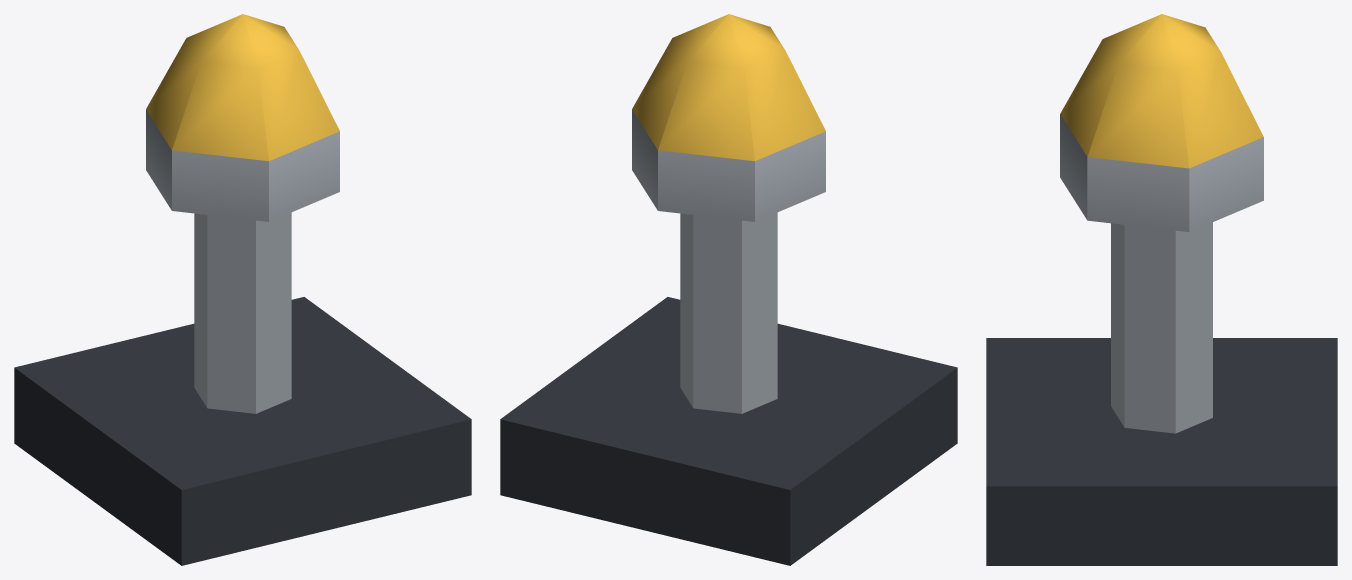
File: LuzPista.fbx
3 views of the same model, side by side, from view 1: azimuth 30°, elevation 25°; view 2: azimuth 150°, elevation 25°; view 3: azimuth 270°, elevation 25° (orthographic). The views are drawn at different scales.
Visible parts, largest first — view 1: LuzPista; view 2: LuzPista; view 3: LuzPista.
Boxes of the visible parts, x1,y1,x2,y2 form: LuzPista: [14, 14, 471, 565]; LuzPista: [500, 14, 957, 565]; LuzPista: [986, 14, 1337, 565].
Bounding box in the file's own units: 0.4 × 0.6 × 0.4.
1 material, 1 textured.
